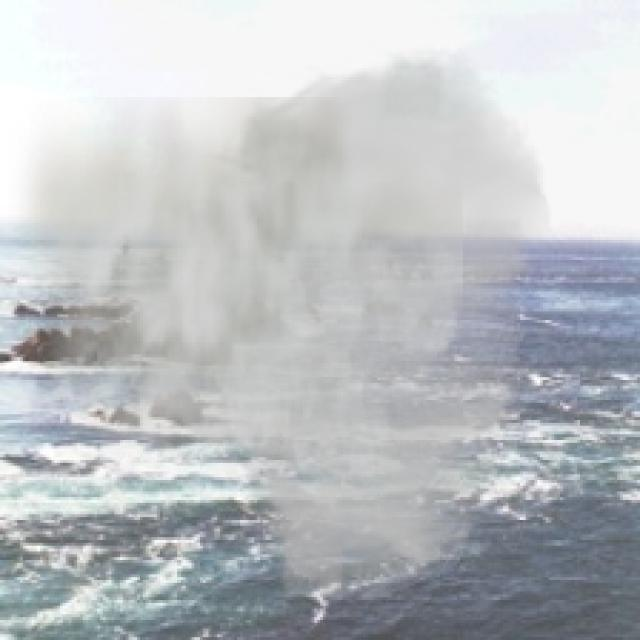Smoke: (8, 42, 554, 608)
